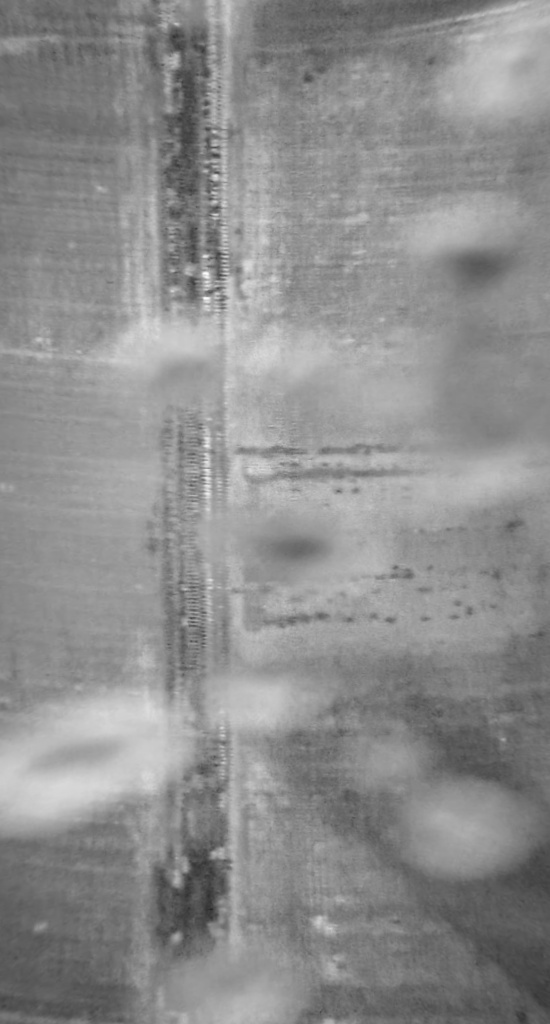splice: (141, 1, 238, 1023)
